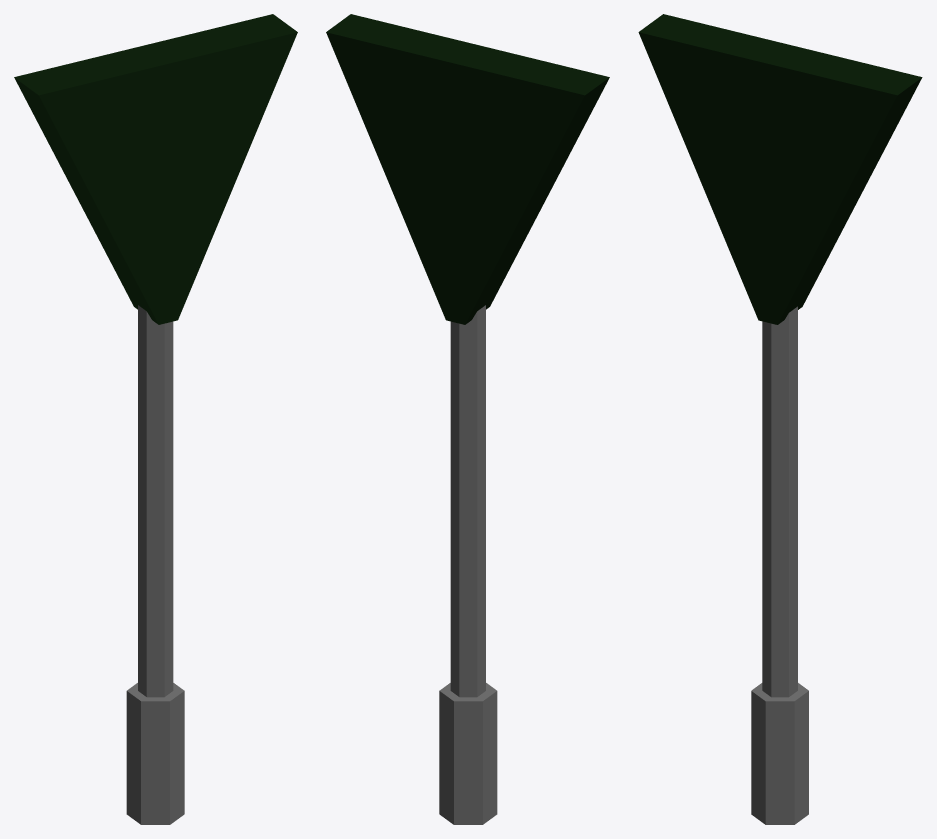
Rendered from SignBoard_05.obj.
3 views of the same model, side by side, from view 1: azimuth 30°, elevation 25°; view 2: azimuth 150°, elevation 25°; view 3: azimuth 330°, elevation 25° (orthographic).
Visible parts, largest first — view 1: SignBoard_05_Cylinder.003; view 2: SignBoard_05_Cylinder.003; view 3: SignBoard_05_Cylinder.003.
Part boxes in pixels (box(x1,y1,x2,y2)): SignBoard_05_Cylinder.003: box(14, 14, 297, 824); SignBoard_05_Cylinder.003: box(326, 14, 609, 824); SignBoard_05_Cylinder.003: box(638, 14, 922, 824).
Size of the model in its own units: 5.7 by 15.97 by 1.1.
